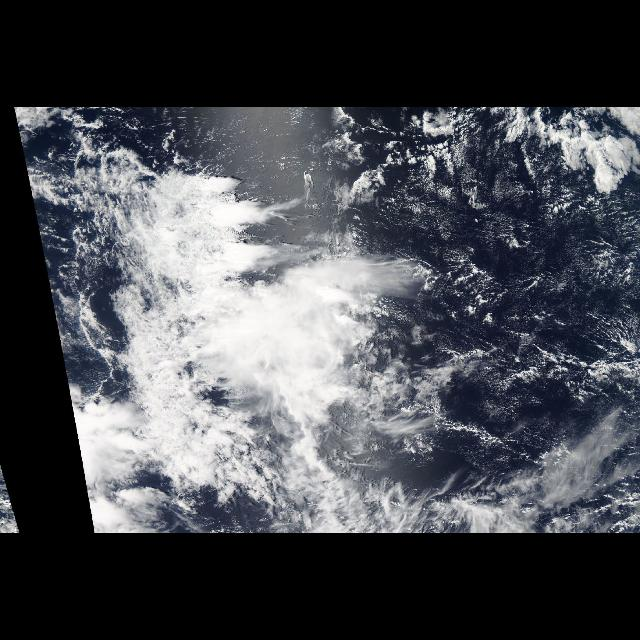Sugar: (424, 186, 640, 408)
